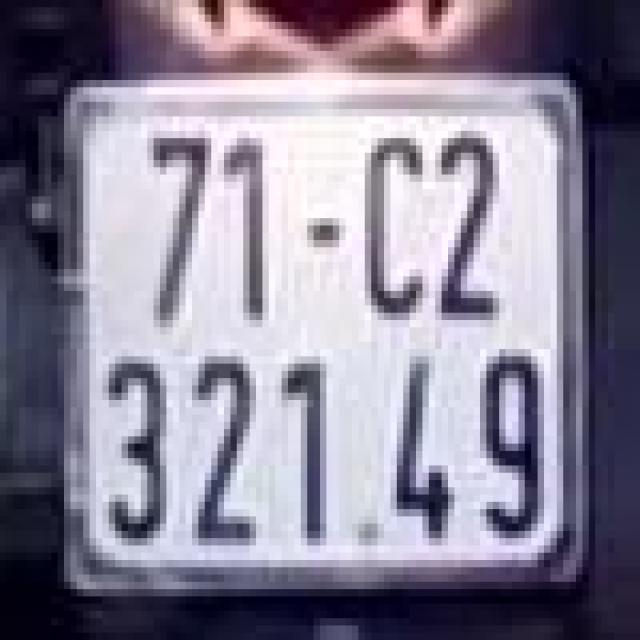1: (266, 346, 342, 556), (218, 123, 282, 334)
2: (182, 342, 260, 545), (435, 131, 512, 334)
3: (106, 349, 182, 560)
4: (381, 342, 470, 553)
7: (128, 116, 211, 328)
9: (474, 342, 556, 567)
C: (349, 127, 438, 324)
